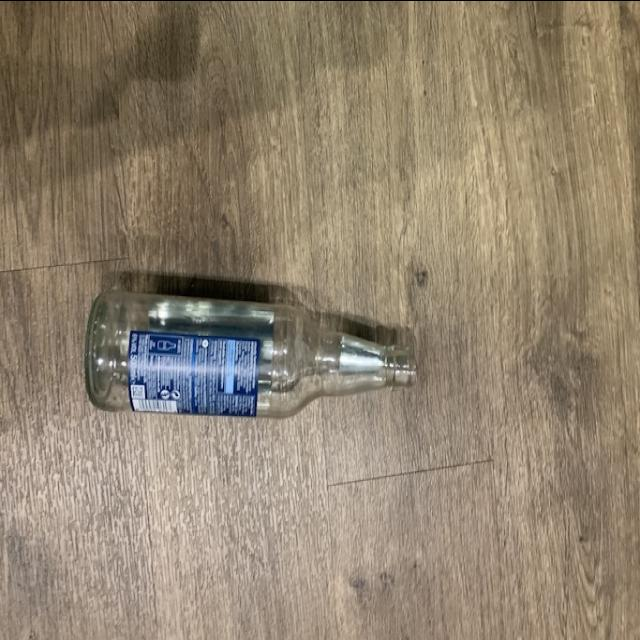Glass Bottle: (84, 294, 418, 412)
